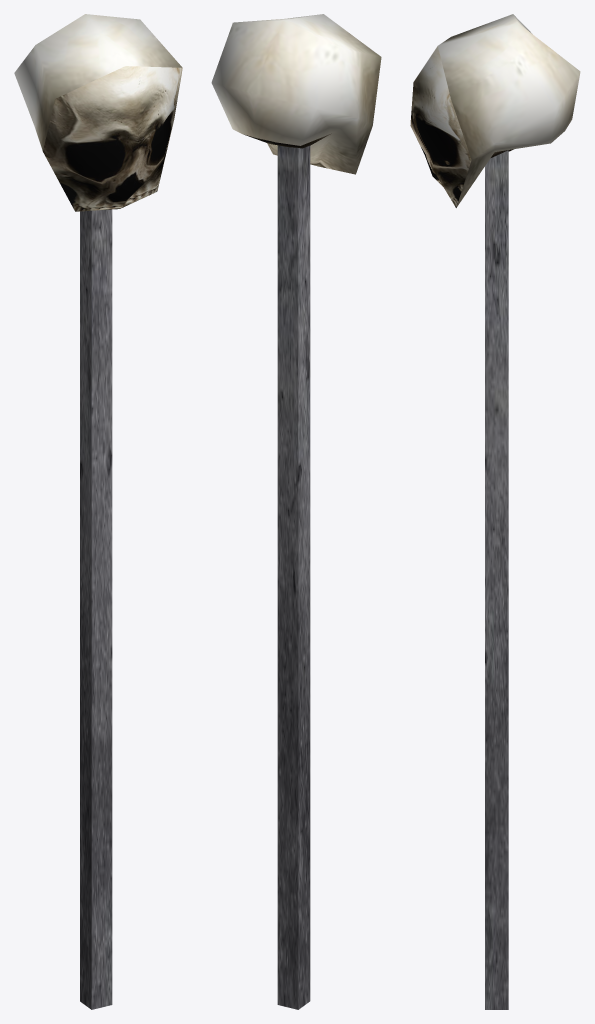
Rendered from skull_On_Pike_GEO.fbx.
3 renders of one model, left to right at view 1: azimuth 30°, elevation 25°; view 2: azimuth 150°, elevation 25°; view 3: azimuth 270°, elevation 25°, orthographic.
Parts seen in each view (by area): view 1: skull_On_Pike_GEO; view 2: skull_On_Pike_GEO; view 3: skull_On_Pike_GEO.
Part boxes in pixels (bbox=[...]): skull_On_Pike_GEO: bbox=[14, 14, 182, 1009]; skull_On_Pike_GEO: bbox=[211, 14, 381, 1009]; skull_On_Pike_GEO: bbox=[410, 14, 580, 1009].
Size of the model in its own units: 0.3386 by 2.42 by 0.3797.
